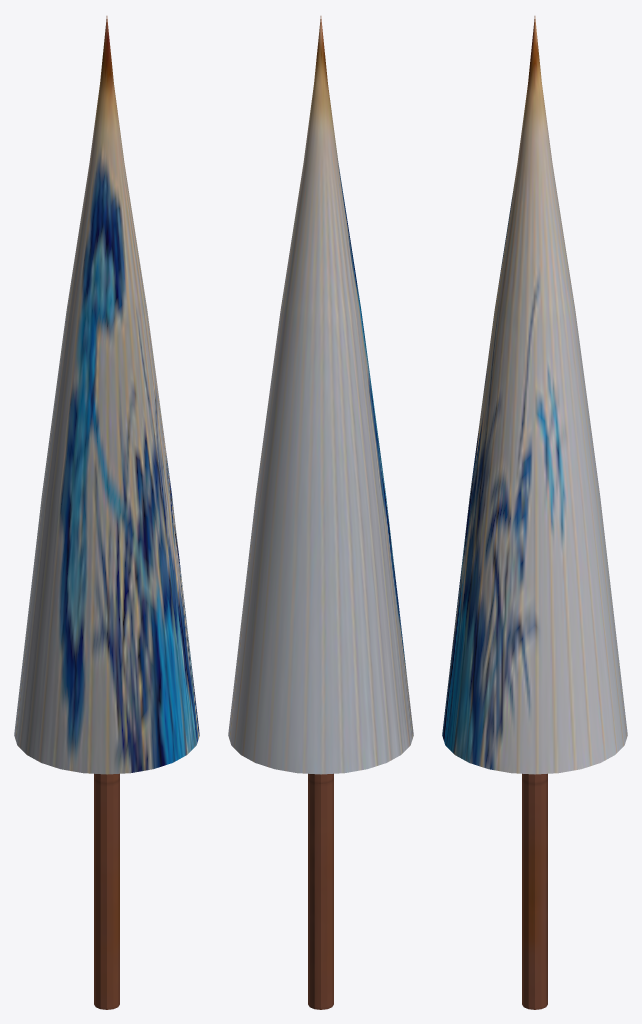
File: san_he.FBX
The picture shows the model from 3 angles, left to right: view 1: azimuth 30°, elevation 25°; view 2: azimuth 150°, elevation 25°; view 3: azimuth 270°, elevation 25°; orthographic projection.
Parts seen in each view (by area): view 1: san02; view 2: san02; view 3: san02.
Boxes of the visible parts, x1,y1,x2,y2 form: san02: (14,16,199,1009); san02: (228,16,413,1009); san02: (442,16,627,1009).
Bounding box in the file's own units: 6.6 × 38.83 × 6.6.
